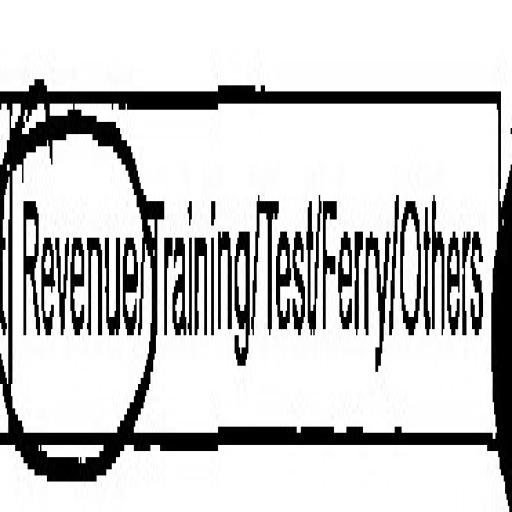check: (6, 0, 145, 512)
